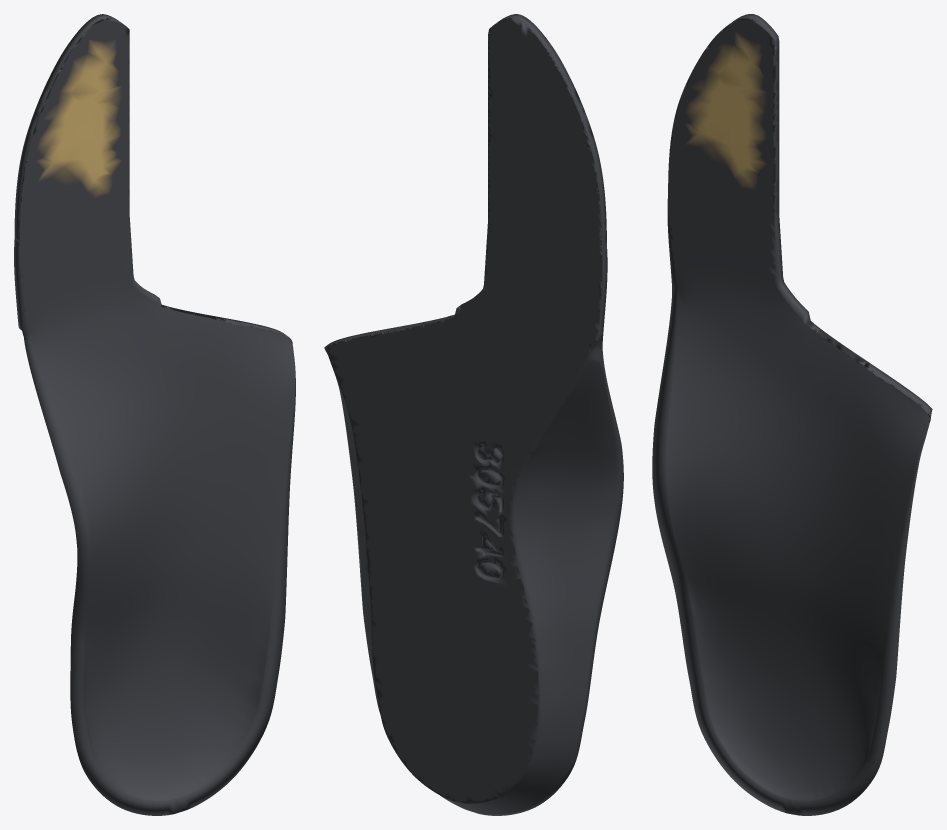
File: CPO-305740_RIGHT.glb
3 renders of one model, left to right at view 1: azimuth 30°, elevation 25°; view 2: azimuth 150°, elevation 25°; view 3: azimuth 330°, elevation 25°, orthographic. The views are drawn at different scales.
Visible parts, largest first — view 1: geometry_0; view 2: geometry_0; view 3: geometry_0.
Boxes of the visible parts, <box> form: geometry_0: <box>14,14,295,815</box>; geometry_0: <box>324,14,623,815</box>; geometry_0: <box>652,14,932,815</box>.
Size of the model in its own units: 101 by 283 by 26.33.
